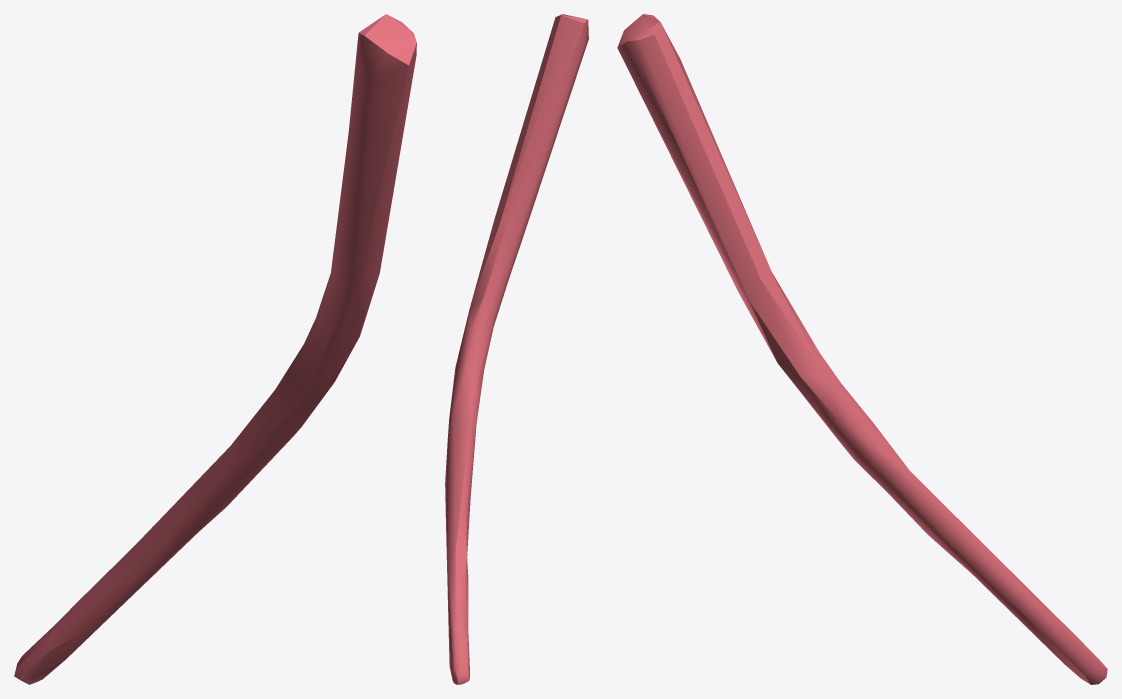
The model's file is fma18888_fj3471.glb.
3 views of the same model, side by side, from view 1: azimuth 30°, elevation 25°; view 2: azimuth 150°, elevation 25°; view 3: azimuth 270°, elevation 25° (orthographic). The views are drawn at different scales.
Visible parts, largest first — view 1: FMA18888_FJ3471; view 2: FMA18888_FJ3471; view 3: FMA18888_FJ3471.
Part boxes in pixels (<box>): FMA18888_FJ3471: <box>14,14,416,684</box>; FMA18888_FJ3471: <box>445,14,588,684</box>; FMA18888_FJ3471: <box>617,14,1107,684</box>.
Size of the model in its own units: 0.0142 by 0.068 by 0.043.
